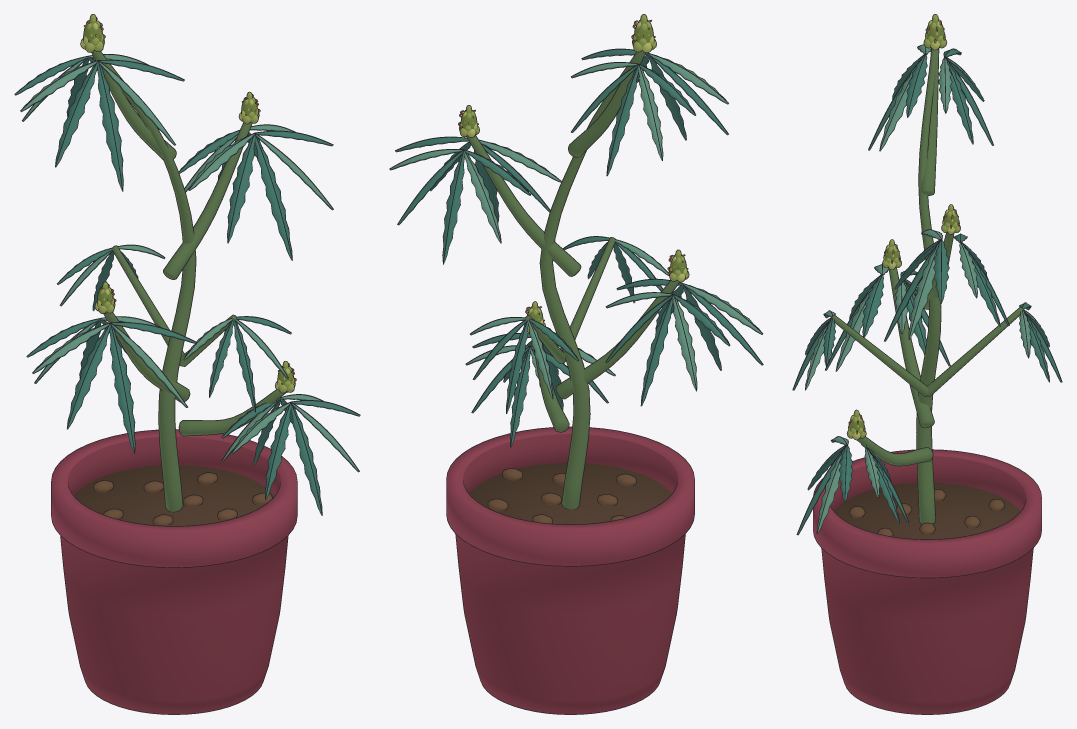
File: cannabis_sauvage_growing_toon.glb
3 views of the same model, side by side, from view 1: azimuth 30°, elevation 25°; view 2: azimuth 150°, elevation 25°; view 3: azimuth 270°, elevation 25° (orthographic). The views are drawn at different scales.
Parts seen in each view (by area): view 1: cannabis_sauvage_growing_Geometry; view 2: cannabis_sauvage_growing_Geometry; view 3: cannabis_sauvage_growing_Geometry.
Boxes of the visible parts, x1,y1,x2,y2 form: cannabis_sauvage_growing_Geometry: (14,14,360,714); cannabis_sauvage_growing_Geometry: (389,14,763,714); cannabis_sauvage_growing_Geometry: (792,14,1062,714).
Bounding box in the file's own units: 0.4547 × 0.8848 × 0.3436.
